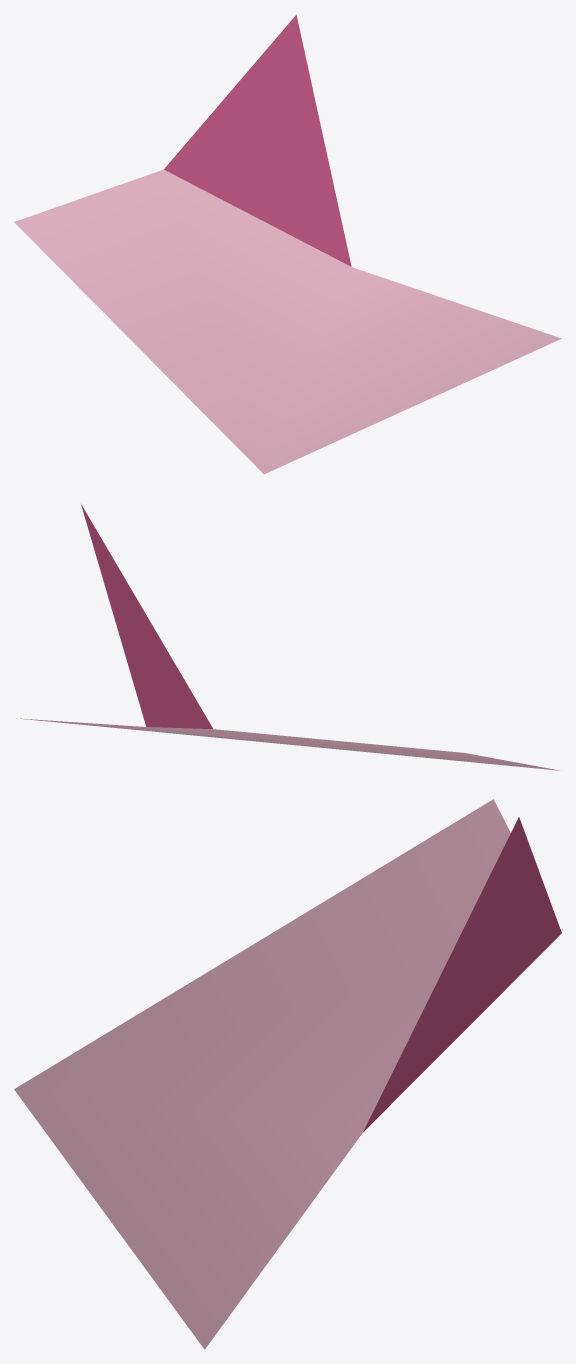
The model's file is confetti-decal.glb.
3 views of the same model, one above another, from view 1: azimuth 30°, elevation 25°; view 2: azimuth 150°, elevation 25°; view 3: azimuth 270°, elevation 25° (orthographic). The views are drawn at different scales.
Parts seen in each view (by area): view 1: root_mesh; view 2: root_mesh; view 3: root_mesh.
Boxes of the visible parts, bbox=[...] form: root_mesh: bbox=[14, 14, 561, 474]; root_mesh: bbox=[17, 504, 561, 770]; root_mesh: bbox=[14, 799, 561, 1349].
Bounding box in the file's own units: 0.2 × 0.1209 × 0.1433.
